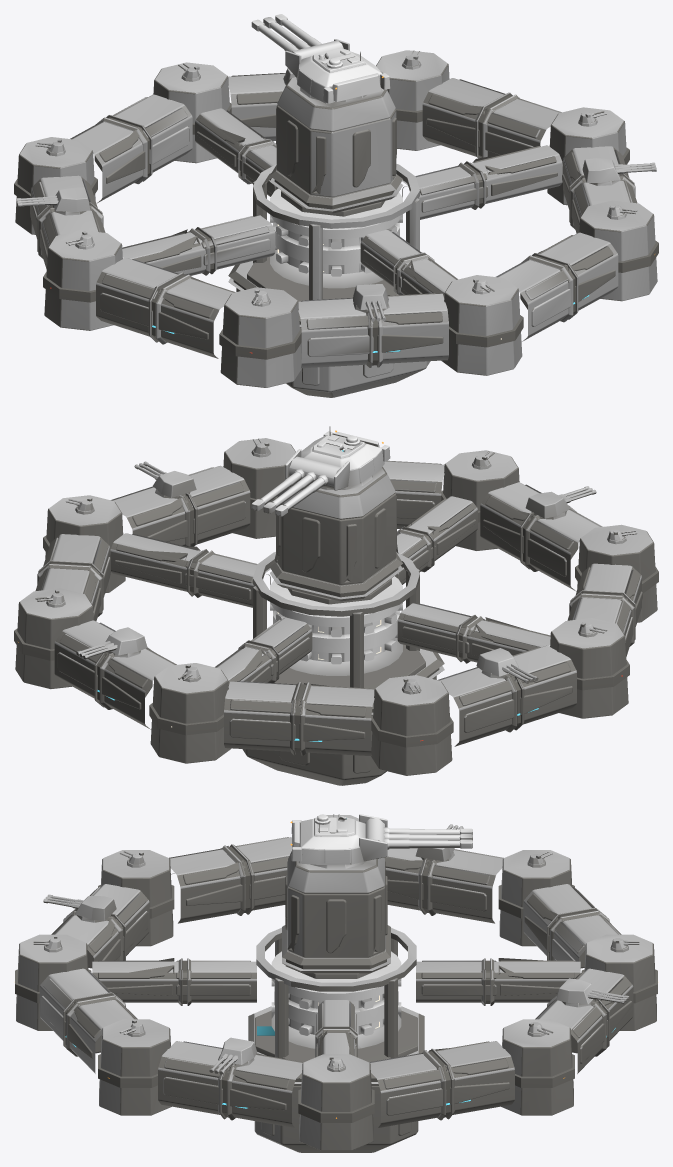
The model's file is troyden_station.glb.
3 renders of one model, top to bottom at view 1: azimuth 30°, elevation 25°; view 2: azimuth 150°, elevation 25°; view 3: azimuth 270°, elevation 25°, orthographic. The views are drawn at different scales.
Parts seen in each view (by area): view 1: hull, reactor, turret_0, aux_0, aux_2, aux_1; view 2: hull, reactor, turret_0, aux_3, aux_1, aux_2, aux_0; view 3: hull, turret_0, reactor, aux_3, aux_1, aux_0, aux_2.
Part boxes in pixels (box(x1,y1,x2,y2)): hull: box(14, 50, 658, 397); reactor: box(270, 188, 402, 288); turret_0: box(251, 14, 390, 103); aux_0: box(582, 158, 656, 185); aux_2: box(16, 187, 90, 215); aux_1: box(353, 284, 389, 321); hull: box(14, 438, 658, 785); reactor: box(270, 576, 402, 675); turret_0: box(251, 426, 390, 516); aux_3: box(76, 627, 147, 659); aux_1: box(525, 486, 596, 519); aux_2: box(476, 648, 538, 683); aux_0: box(134, 461, 196, 498); hull: box(14, 815, 658, 1152); turret_0: box(290, 814, 472, 868); reactor: box(271, 951, 401, 1048); aux_3: box(556, 978, 629, 1007); aux_1: box(43, 894, 116, 922); aux_0: box(209, 1037, 257, 1074); aux_2: box(415, 824, 463, 862).
Size of the model in its own units: 122 by 65.92 by 122.
Materials: 8 (4 with a texture image).
